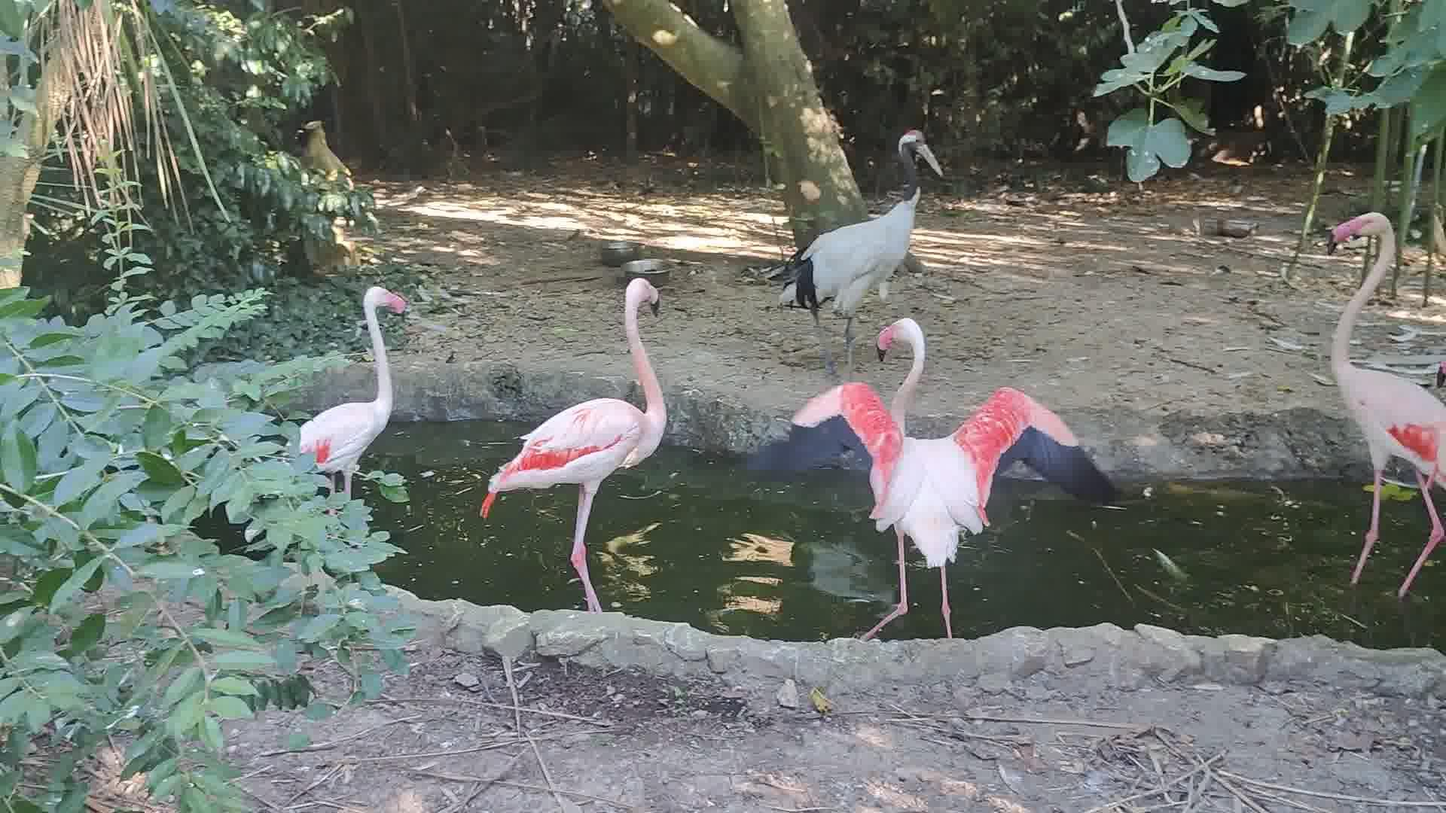apple: (742, 318, 1122, 642), (479, 278, 668, 614), (1327, 211, 1446, 596), (766, 128, 943, 371), (282, 286, 406, 514)
